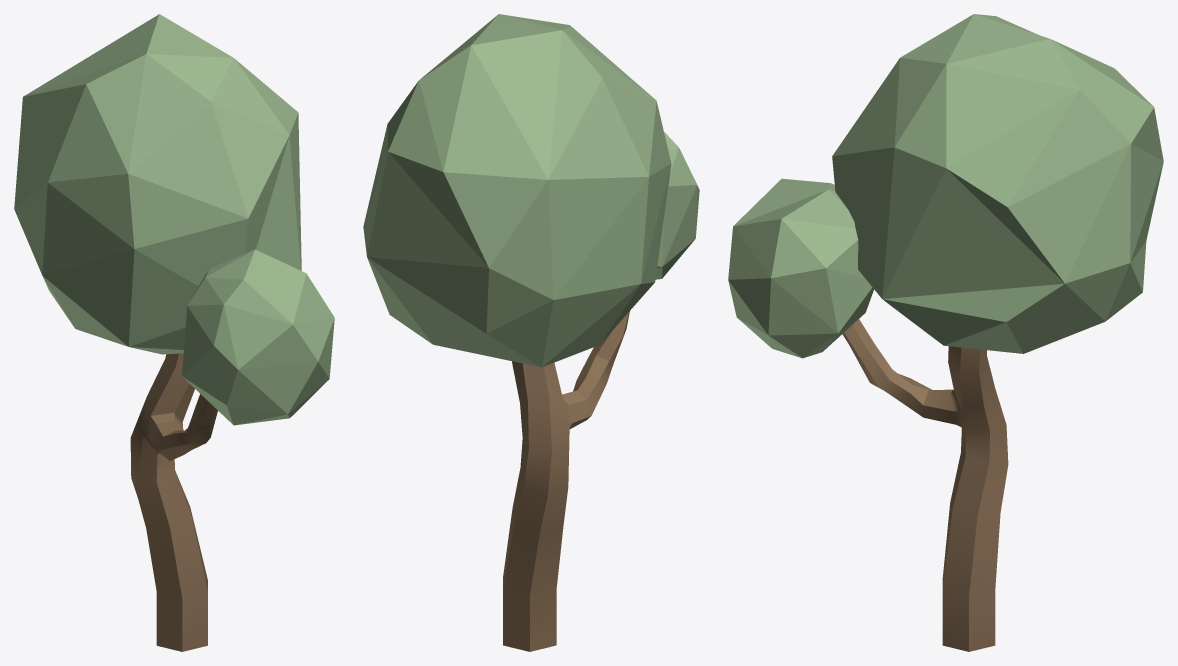
Rendered from Tree2.fbx.
The picture shows the model from 3 angles, left to right: view 1: azimuth 30°, elevation 25°; view 2: azimuth 150°, elevation 25°; view 3: azimuth 270°, elevation 25°; orthographic projection. The views are drawn at different scales.
Parts seen in each view (by area): view 1: Leaves1, Leaves2, Branch; view 2: Leaves1, Branch, Leaves2; view 3: Leaves1, Leaves2, Branch.
Boxes of the visible parts, x1=… form: Leaves1: x1=14, y1=14, x2=301, y2=354; Leaves2: x1=182, y1=249, x2=334, y2=425; Branch: x1=130, y1=353, x2=217, y2=651; Leaves1: x1=363, y1=14, x2=671, y2=367; Branch: x1=503, y1=311, x2=629, y2=651; Leaves2: x1=655, y1=132, x2=699, y2=279; Leaves1: x1=832, y1=14, x2=1163, y2=353; Leaves2: x1=728, y1=178, x2=873, y2=358; Branch: x1=842, y1=319, x2=1008, y2=651.
Bounding box in the file's own units: 4.65 × 10.89 × 7.06.
